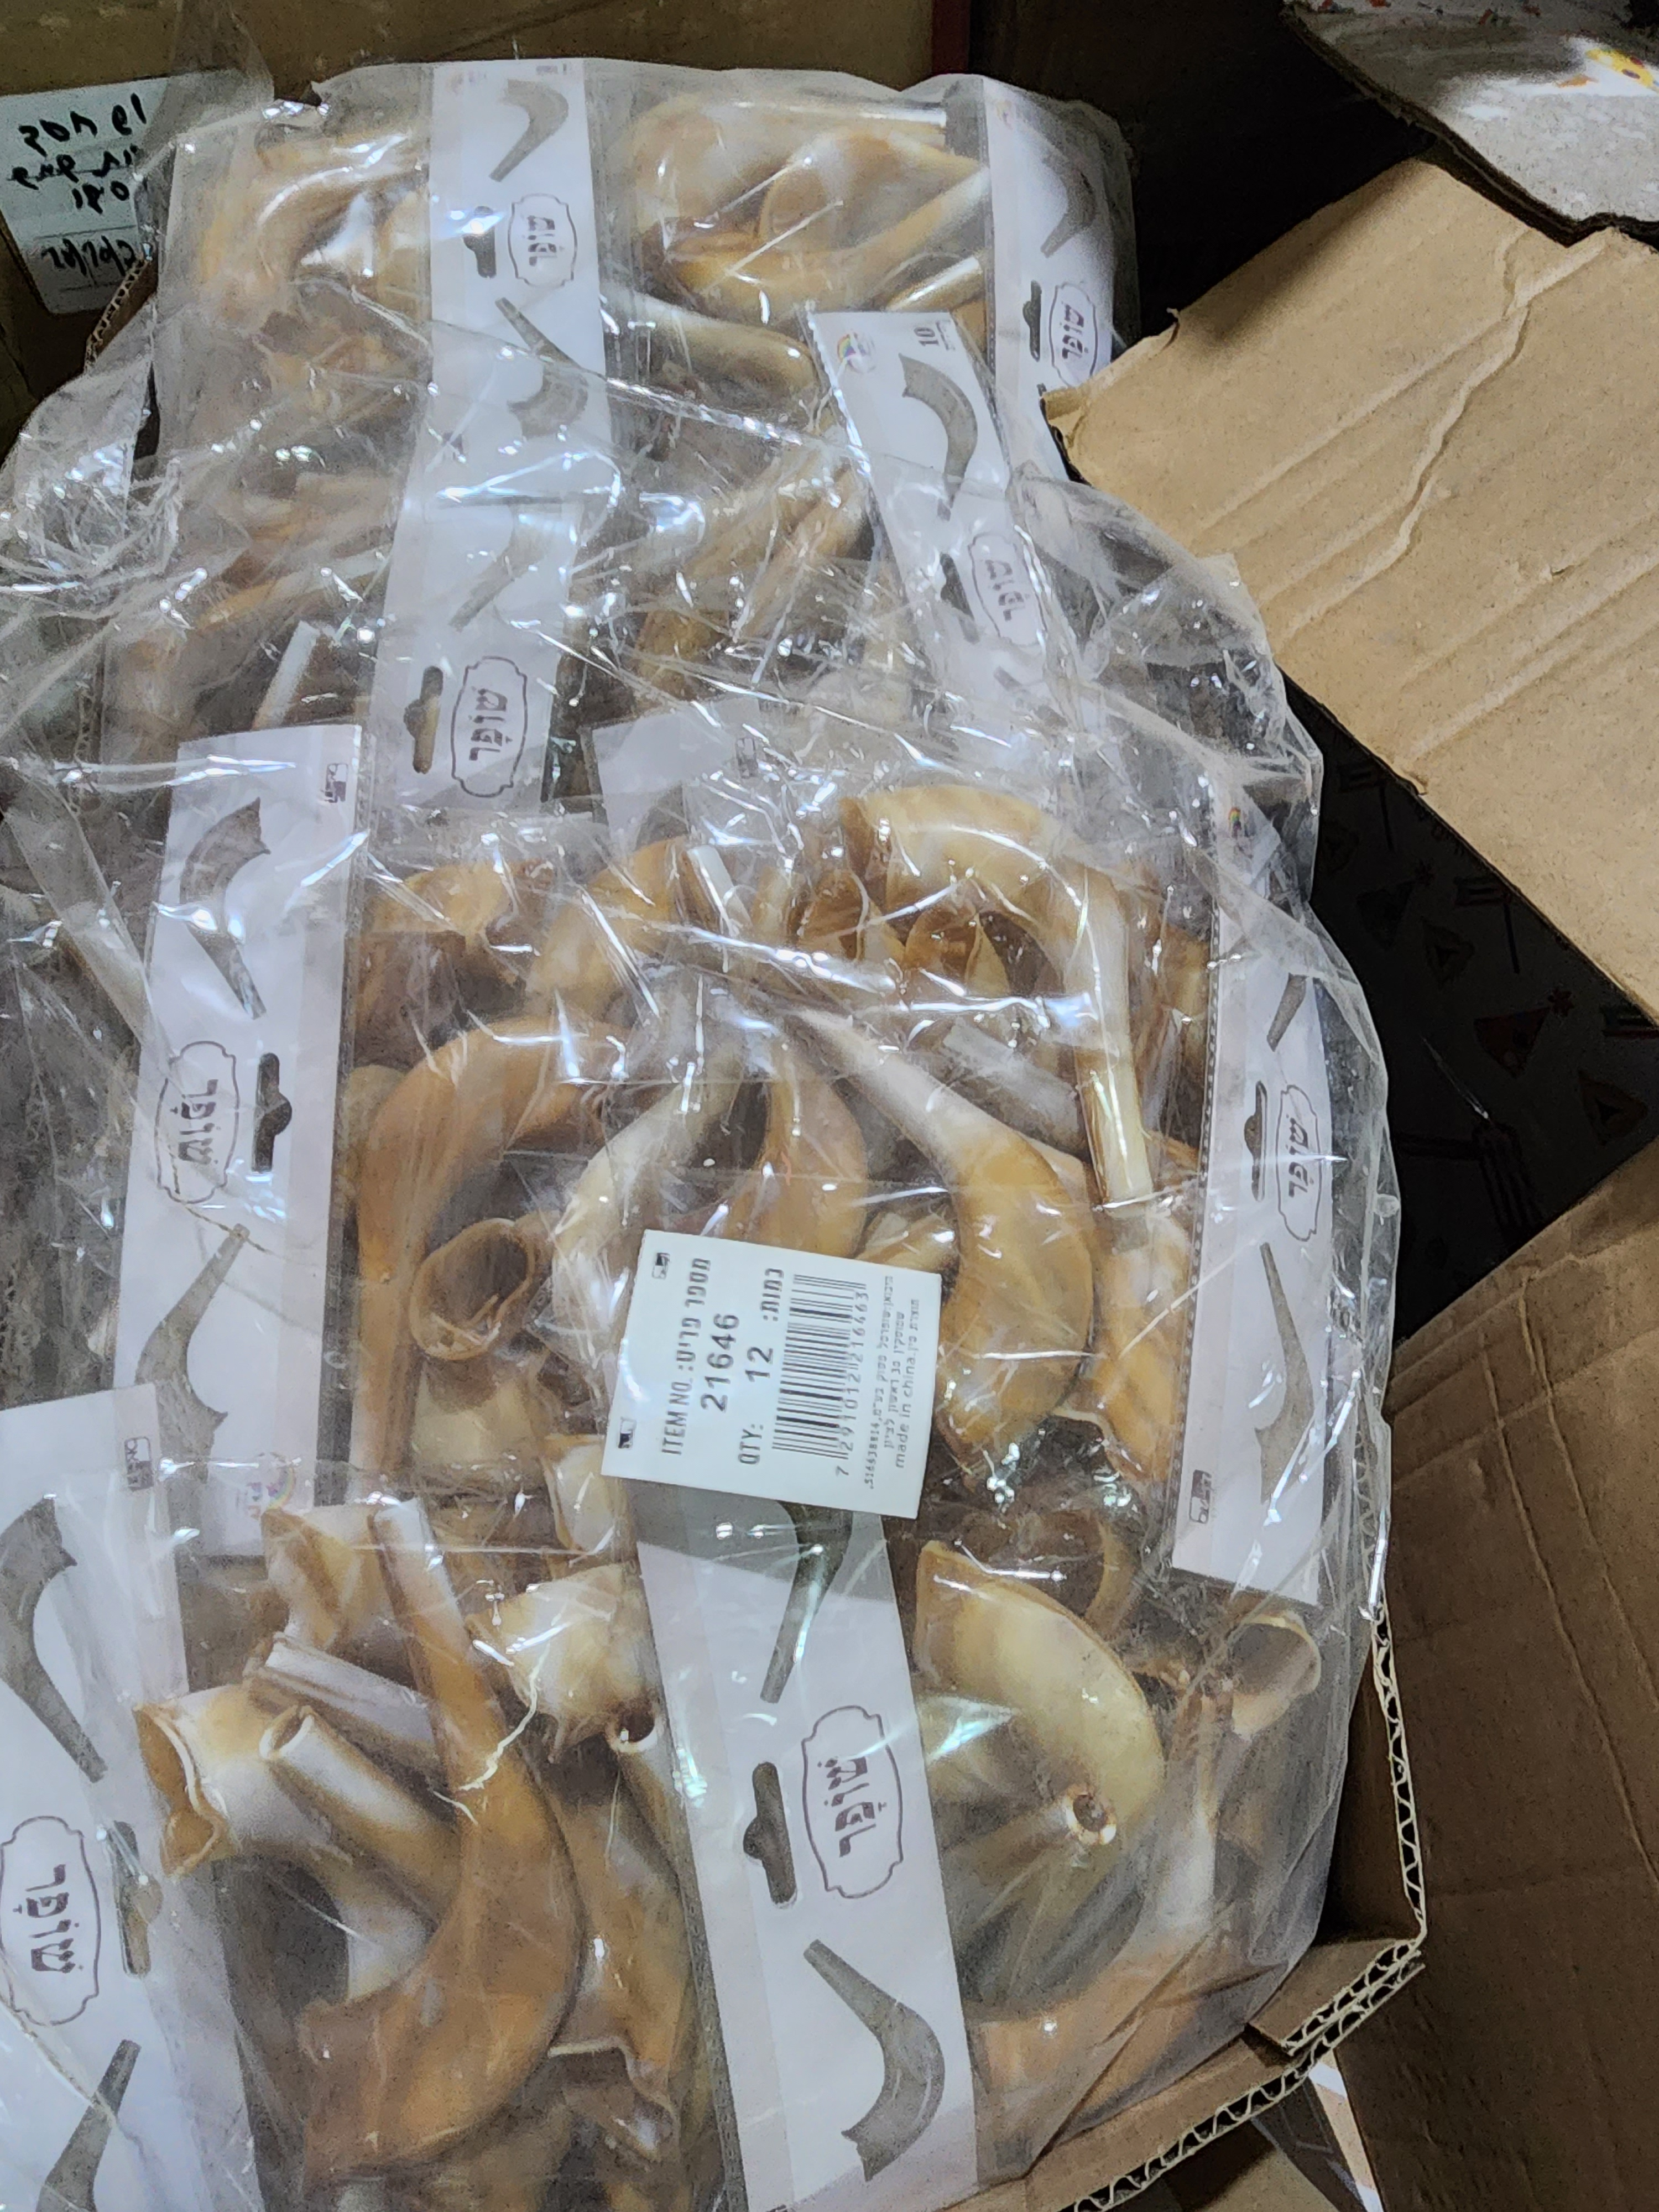other: (103, 61, 1462, 2127)
